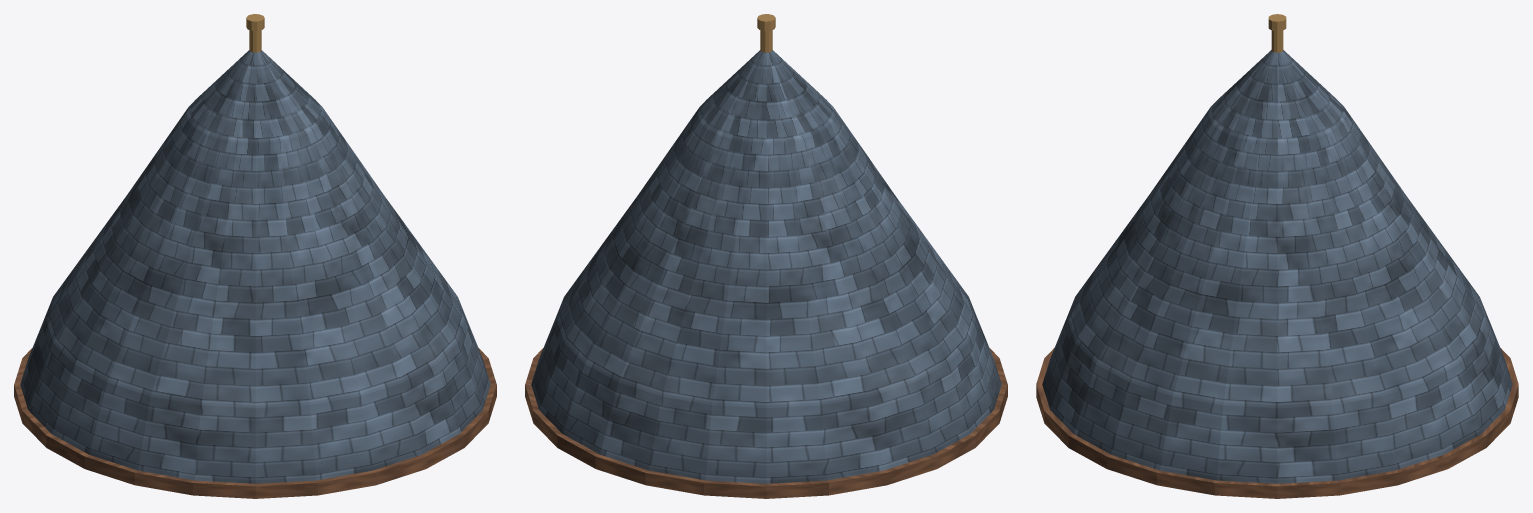
Rendered from round_tower_roof.glb.
3 renders of one model, left to right at view 1: azimuth 30°, elevation 25°; view 2: azimuth 150°, elevation 25°; view 3: azimuth 270°, elevation 25°, orthographic.
Parts seen in each view (by area): view 1: Round Tower Roof; view 2: Round Tower Roof; view 3: Round Tower Roof.
Boxes of the visible parts, left/top/right/bottom form: Round Tower Roof: left=14, top=14, right=496, bottom=498; Round Tower Roof: left=525, top=14, right=1007, bottom=498; Round Tower Roof: left=1036, top=14, right=1518, bottom=498.
Bounding box in the file's own units: 5.94 × 5.15 × 5.94.
3 materials, 2 textured.
